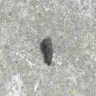Dog: (42, 38, 55, 65)
